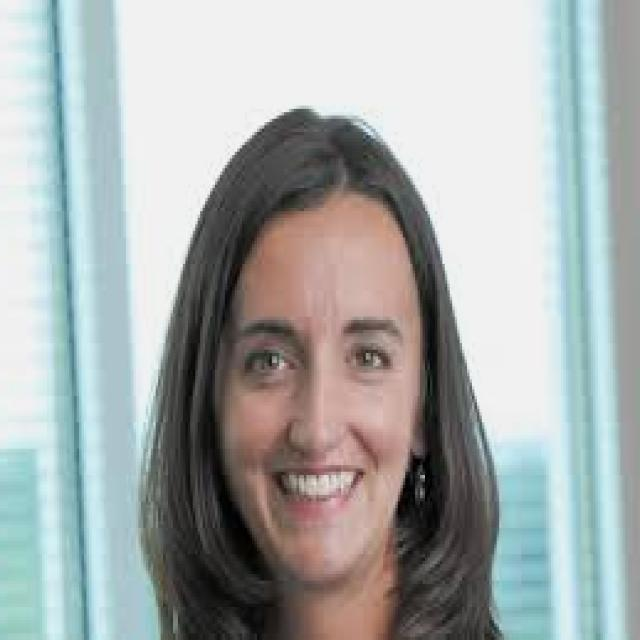normal_face: (206, 117, 428, 593)
